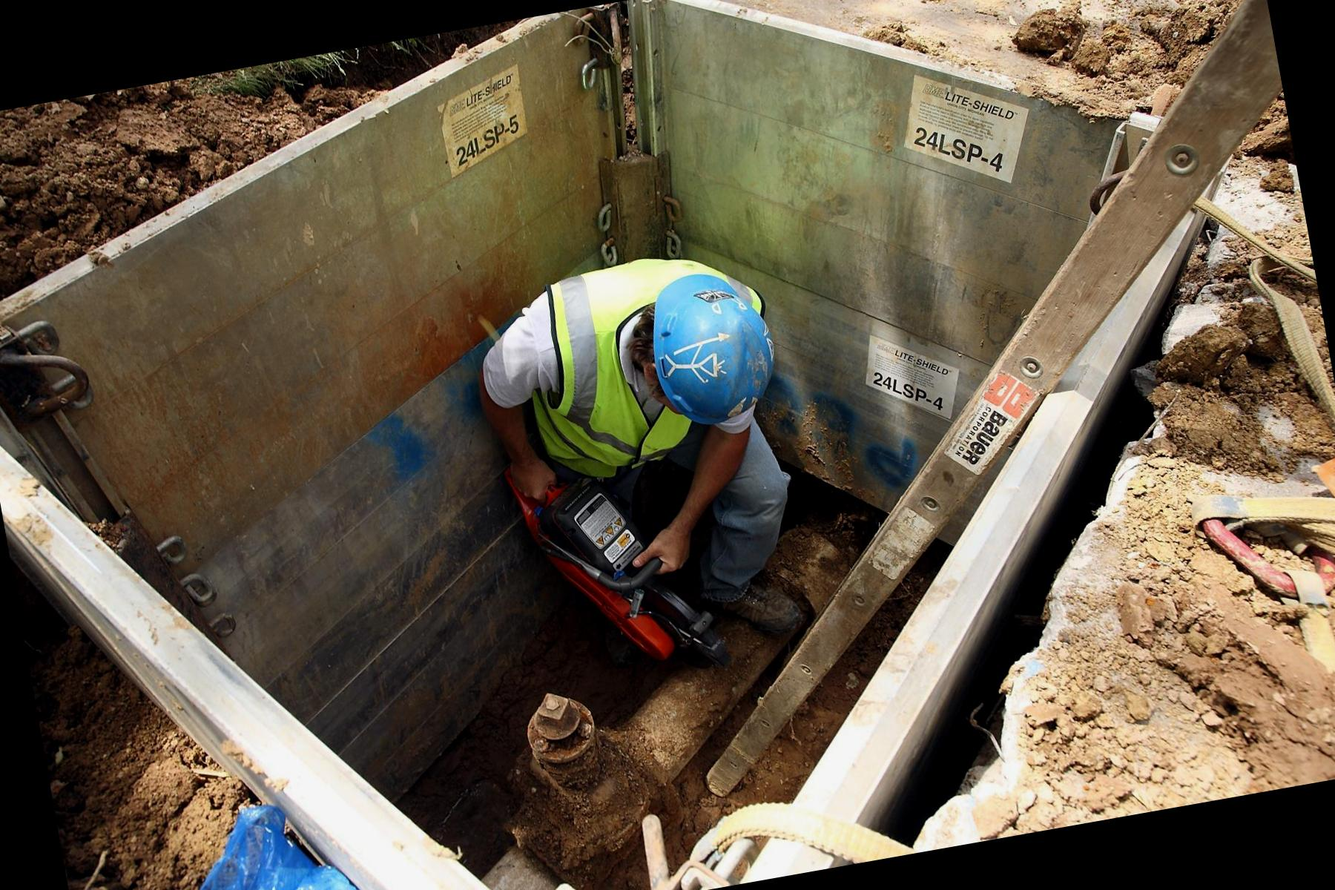helmet: (640, 259, 784, 439)
person: (461, 224, 821, 637)
